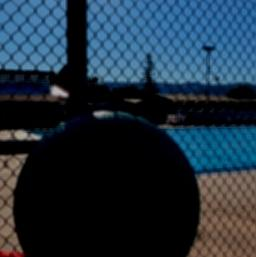algae: (22, 111, 194, 257)
